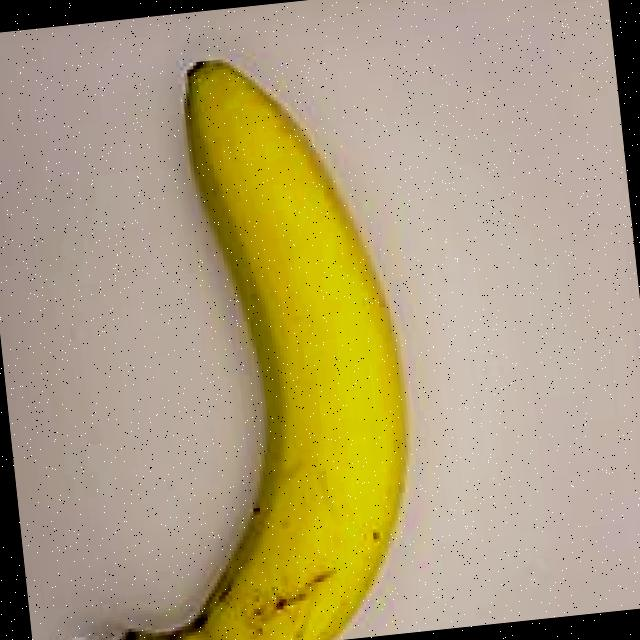Ripe: (0, 23, 463, 640)
